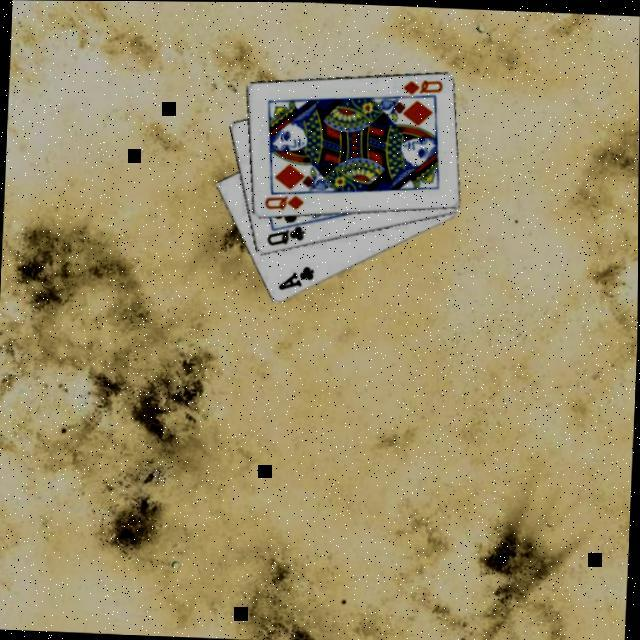AC: (276, 260, 318, 292)
QC: (264, 220, 308, 248)
QD: (262, 189, 307, 211), (400, 75, 446, 96)
